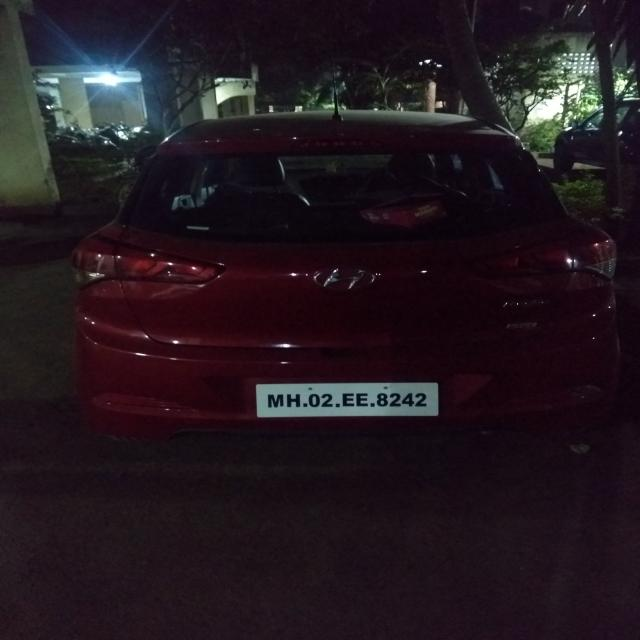Number-Plate: (261, 383, 438, 417)
